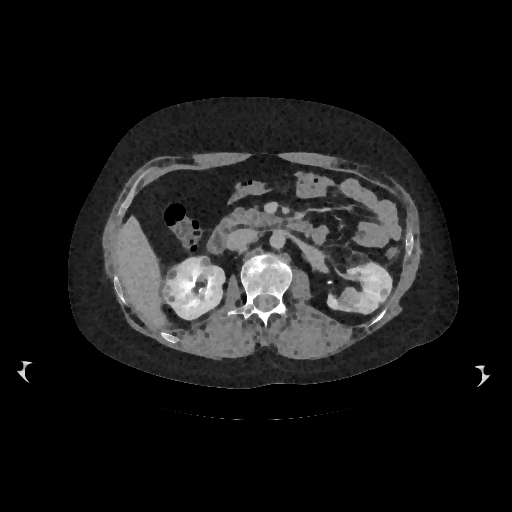Lesion: (336, 285, 362, 314)
